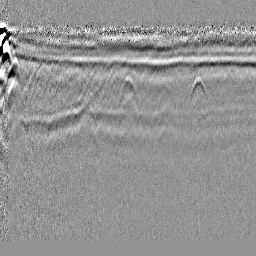cavity: (118, 73, 139, 104)
